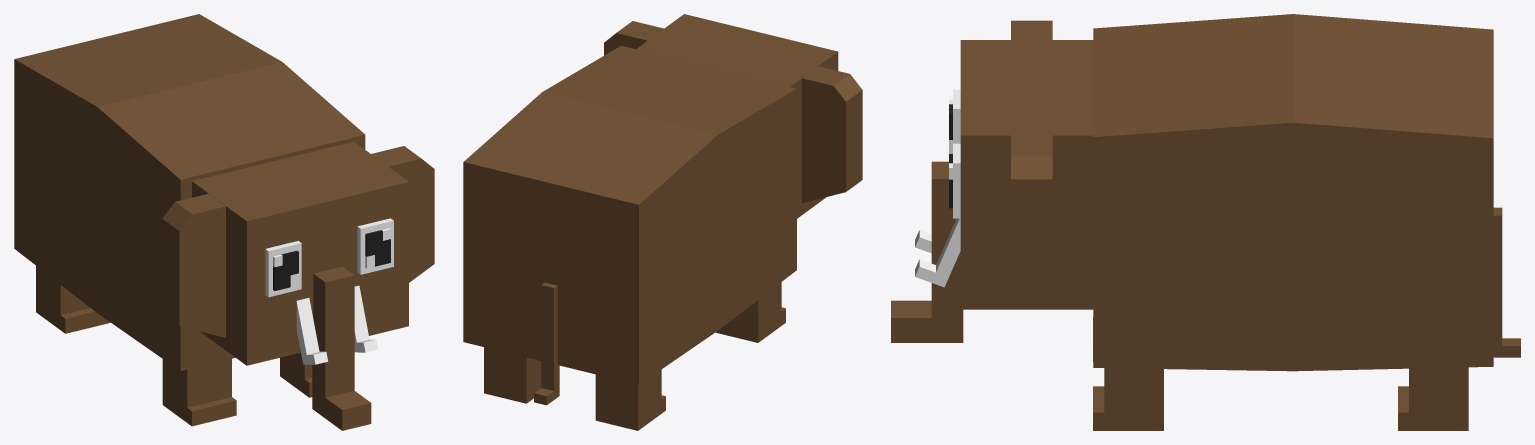
File: 动物_非洲象.fbx
3 renders of one model, left to right at view 1: azimuth 30°, elevation 25°; view 2: azimuth 150°, elevation 25°; view 3: azimuth 270°, elevation 25°, orthographic. The views are drawn at different scales.
Visible parts, largest first — view 1: Cube.001, Cube, Cube.002, Cube.004, Cube.003, Cube.005, Cube.009; view 2: Cube.001, Cube.002, Cube, Cube.004, Cube.016; view 3: Cube.001, Cube, Cube.004, Cube.002, Cube.003, Cube.016, Cube.009, Cube.005.
Part boxes in pixels (x1,y1,x2,y2): Cube.001: [14, 14, 365, 371]; Cube: [192, 141, 408, 365]; Cube.002: [162, 146, 434, 337]; Cube.004: [36, 266, 312, 426]; Cube.003: [312, 266, 371, 430]; Cube.005: [265, 218, 393, 297]; Cube.009: [296, 285, 377, 364]; Cube.001: [463, 45, 796, 384]; Cube.002: [604, 21, 862, 203]; Cube: [636, 14, 838, 218]; Cube.004: [484, 282, 785, 430]; Cube.016: [534, 282, 559, 405]; Cube.001: [1093, 14, 1493, 371]; Cube: [960, 40, 1093, 309]; Cube.004: [1093, 317, 1468, 430]; Cube.002: [1011, 20, 1052, 294]; Cube.003: [891, 161, 963, 342]; Cube.016: [1493, 207, 1520, 357]; Cube.009: [915, 218, 960, 287]; Cube.005: [949, 89, 960, 218].
Size of the model in its own units: 263 by 258 by 468.
